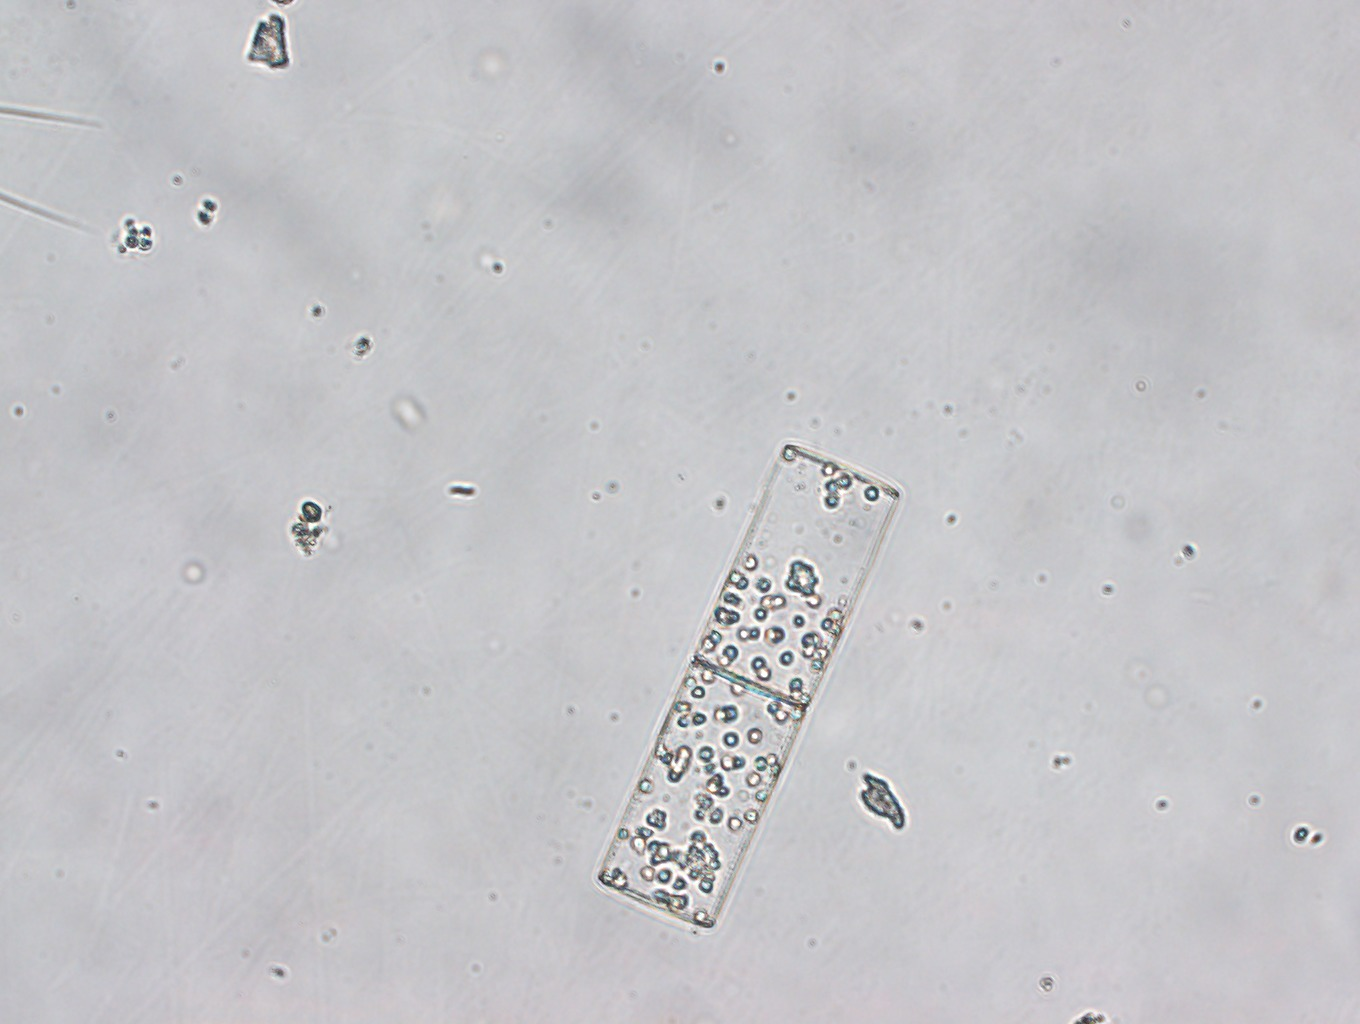guinardia flaccida: (597, 444, 900, 929)
